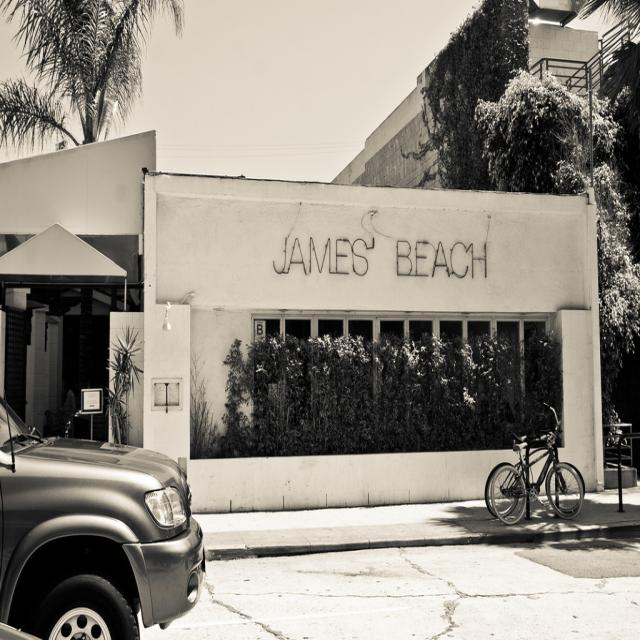car: (0, 422, 210, 634)
